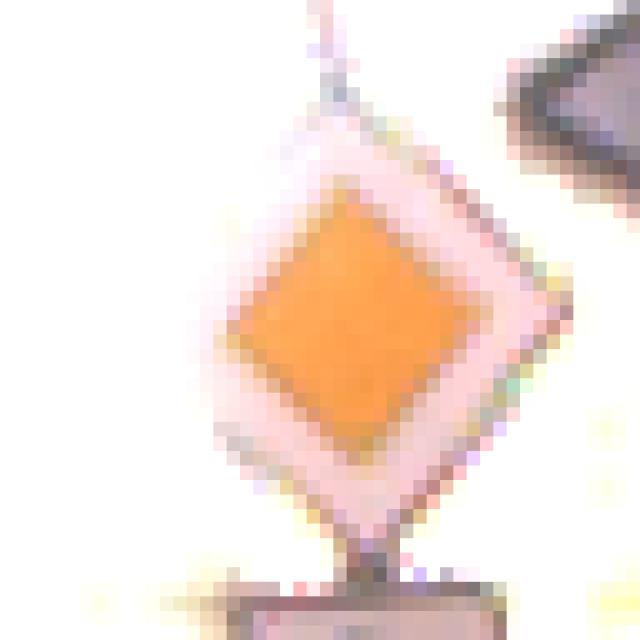Main Road: (81, 74, 561, 554)
